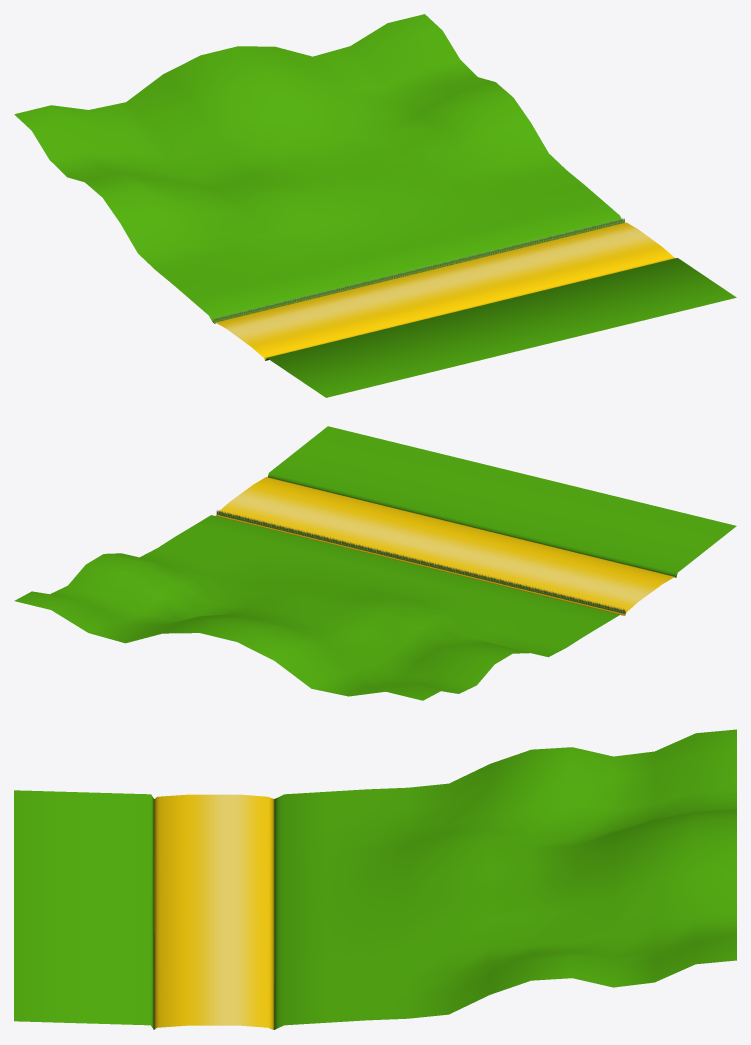
Rendered from ground.glb.
3 renders of one model, top to bottom at view 1: azimuth 30°, elevation 25°; view 2: azimuth 150°, elevation 25°; view 3: azimuth 270°, elevation 25°, orthographic. The views are drawn at different scales.
Visible parts, largest first — view 1: Plane, Plane.003, Plane.001; view 2: Plane, Plane.003, Plane.001; view 3: Plane, Plane.003.
Boxes of the visible parts, x1,y1,x2,y2 form: Plane: (14,14,736,397); Plane.003: (213,222,674,360); Plane.001: (214,218,624,323); Plane: (14,426,736,700); Plane.003: (216,477,675,615); Plane.001: (216,510,625,615); Plane: (14,729,736,1029); Plane.003: (154,794,274,1029).
Bounding box in the file's own units: 20.08 × 3.49 × 26.45.
Materials: 3 (3 with a texture image).
